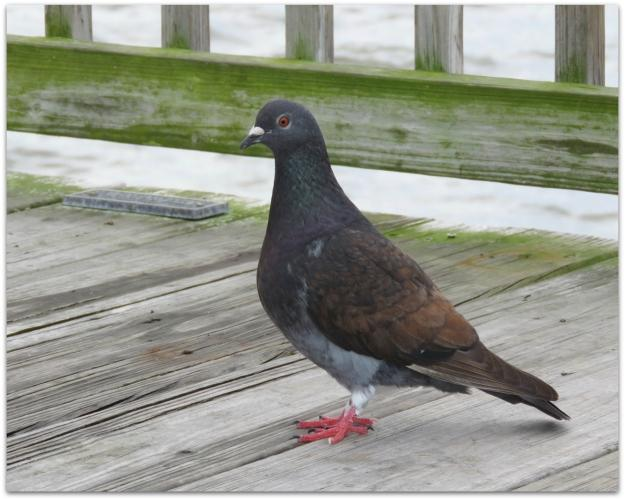Flying Rat: (229, 93, 559, 449)
